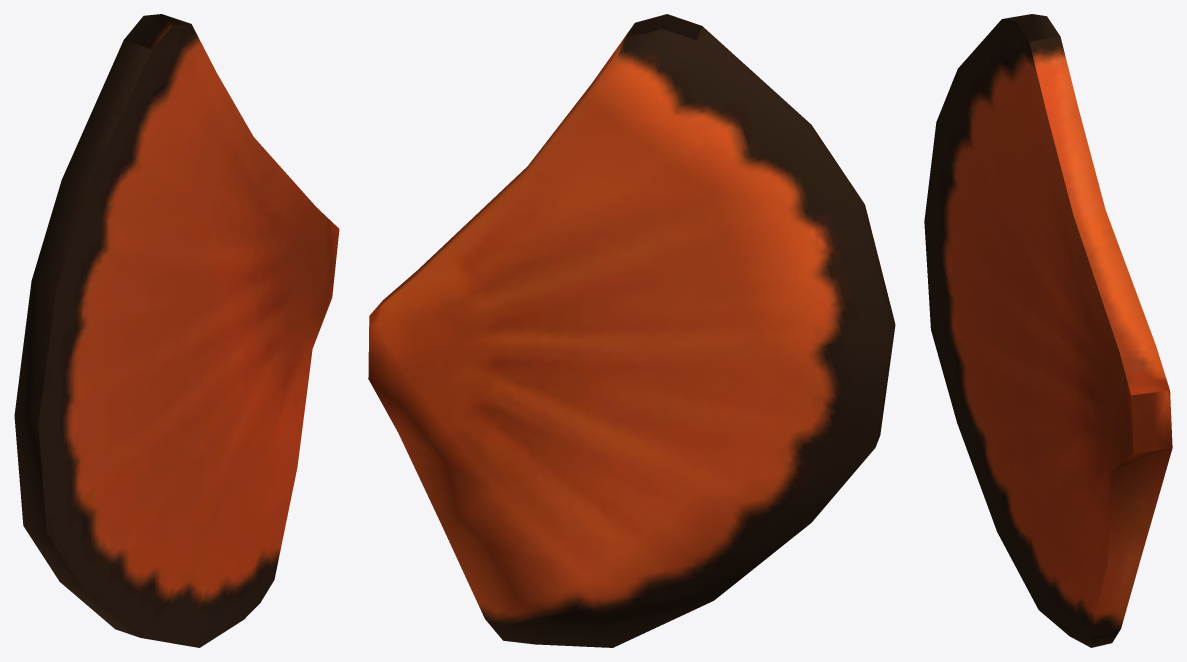
The model's file is aletaGrande.obj.
3 views of the same model, side by side, from view 1: azimuth 30°, elevation 25°; view 2: azimuth 150°, elevation 25°; view 3: azimuth 270°, elevation 25° (orthographic). The views are drawn at different scales.
Parts seen in each view (by area): view 1: polySurface32; view 2: polySurface32; view 3: polySurface32.
Boxes of the visible parts, left/top/right/bottom form: polySurface32: left=14, top=14, right=339, bottom=647; polySurface32: left=368, top=14, right=895, bottom=647; polySurface32: left=924, top=14, right=1172, bottom=647.
Bounding box in the file's own units: 1.46 × 2.11 × 0.825.
1 material, 1 textured.
